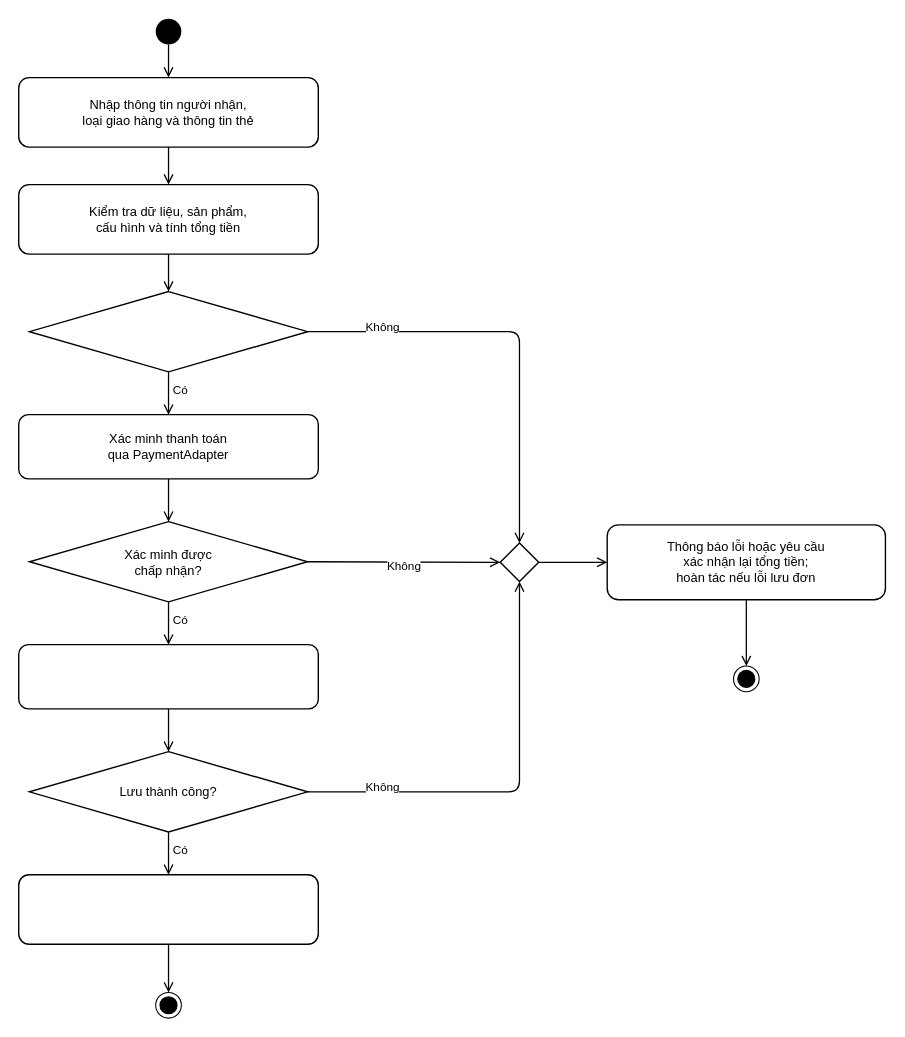
Some shapes in this 905 by 1037 pixel diagram are drawn without their labels. The shapes that lost their labels are listed below. From the top down, each one's centre as x and y in pixels, then its label:
At point 168,331: "Đủ điều kiện đặt hàng?".
At point 168,676: "Lưu đơn, chi tiết và xác minh trong một transaction".
At point 168,909: "Hiển thị mã đơn; gửi email xác nhận nếu khách có email".
